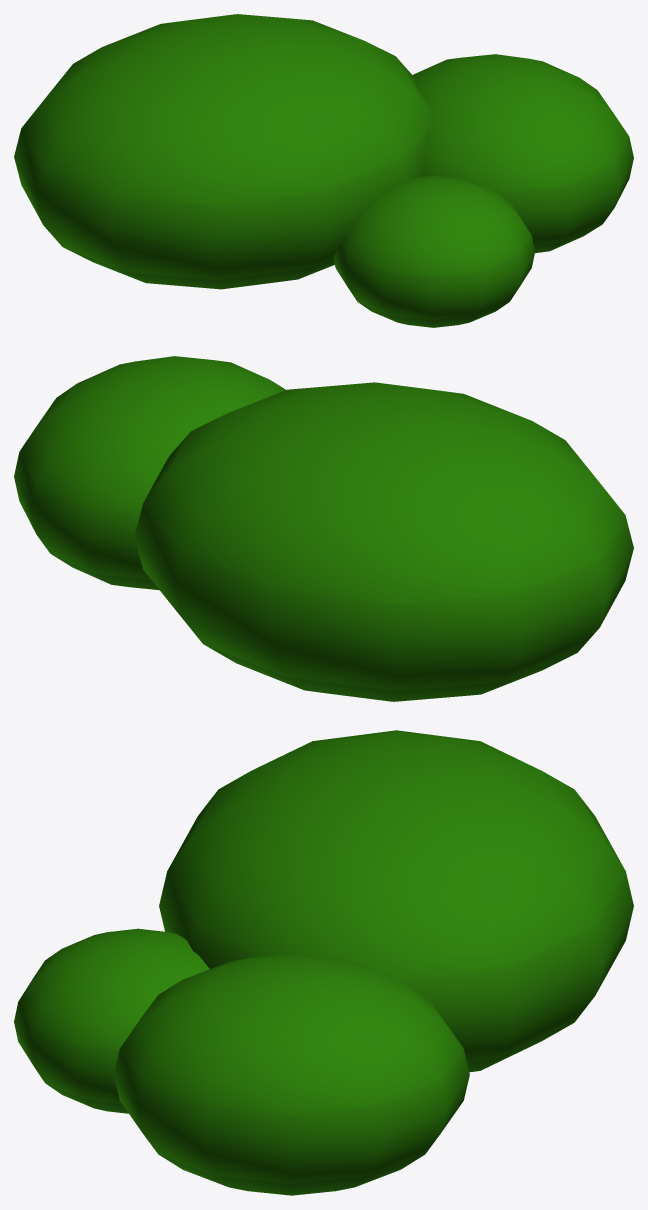
Rendered from bush-10_col.fbx.
3 renders of one model, top to bottom at view 1: azimuth 30°, elevation 25°; view 2: azimuth 150°, elevation 25°; view 3: azimuth 270°, elevation 25°, orthographic. The views are drawn at different scales.
Parts seen in each view (by area): view 1: bush-10.col; view 2: bush-10.col; view 3: bush-10.col.
Boxes of the visible parts, x1,y1,x2,y2 form: bush-10.col: (14,14,633,327); bush-10.col: (14,356,633,701); bush-10.col: (14,730,633,1195).
Bounding box in the file's own units: 0.4055 × 0.1595 × 0.3343.
1 material, 1 textured.
